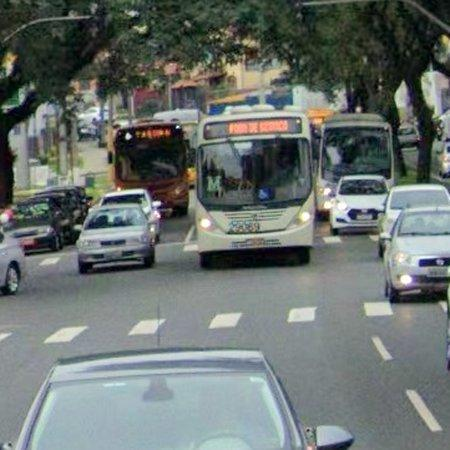buses: (196, 105, 316, 266), (114, 121, 189, 212), (320, 114, 395, 190), (223, 105, 253, 114)
